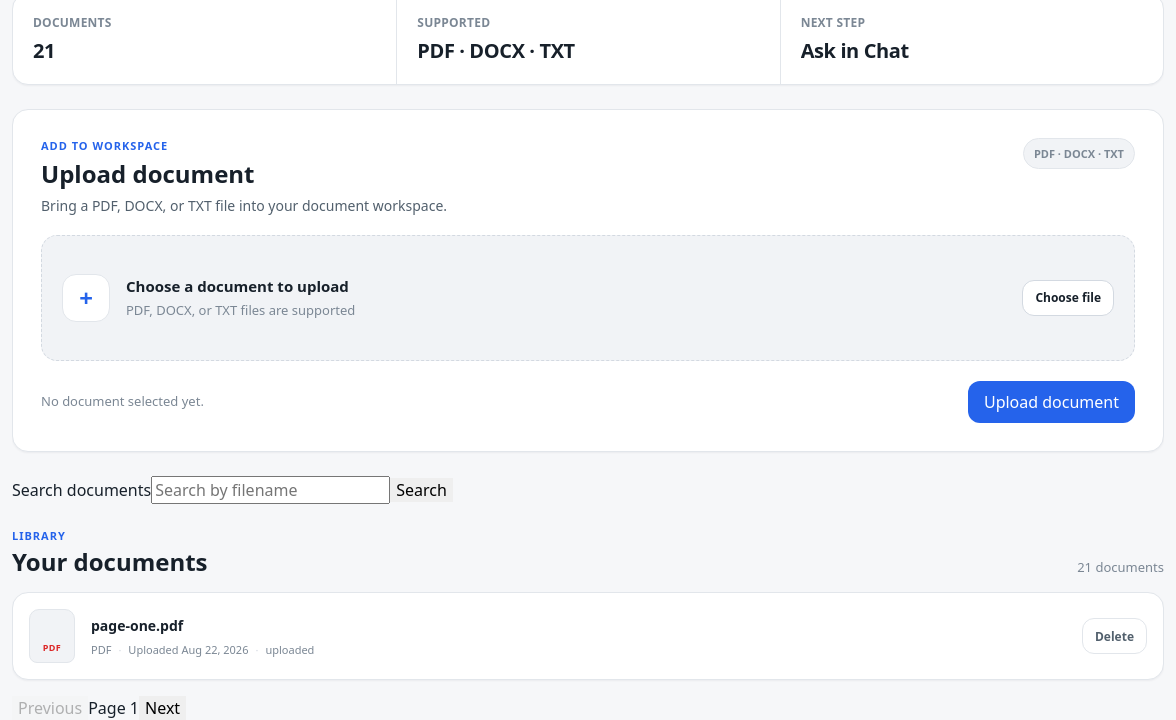
Test: DashboardPage › moves back to page 1 after deleting the only item on page 2
The width and height of the screenshot is (1176, 720).
(page scrolled)
Check: the text "page-one.pdf" is shown, box 91,616 -> 183,635
Click the button with aria-label "Next page".
click(163, 708)  # box 139,696 -> 186,719
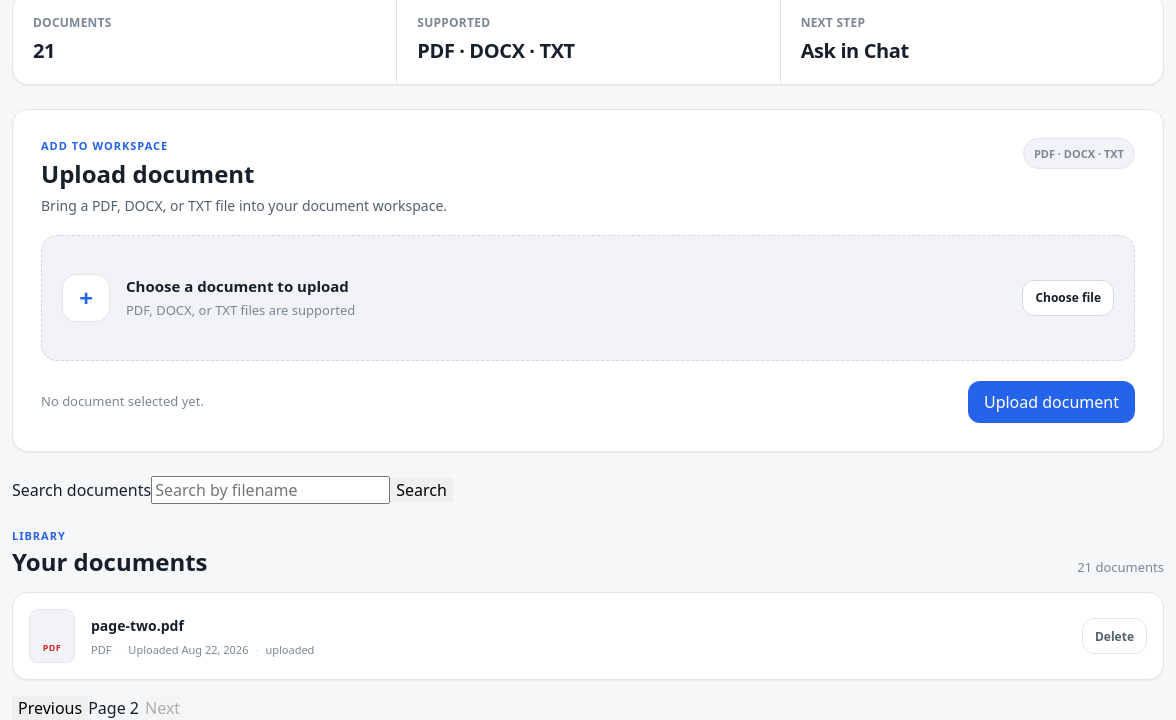
Check: the text "page-two.pdf" is shown, box 91,616 -> 184,635
Click the button "Delete".
click(1114, 636)  # box 1082,618 -> 1147,654
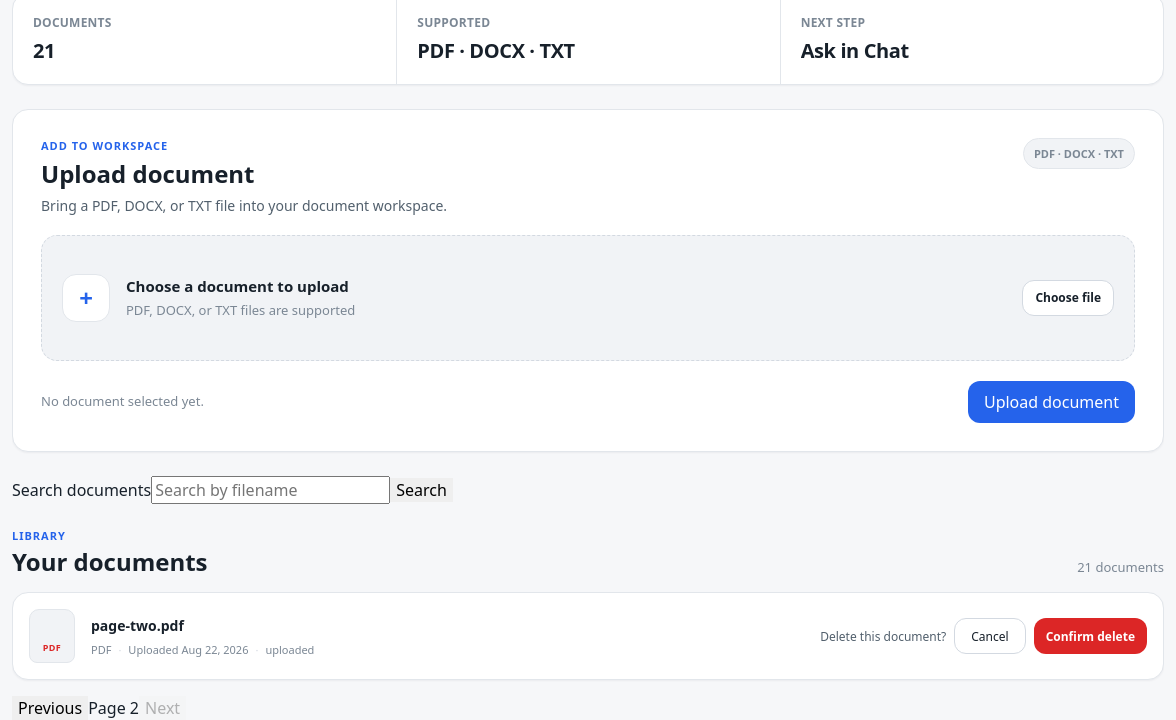
Click the button "Confirm delete".
click(1090, 636)  # box 1034,618 -> 1147,654
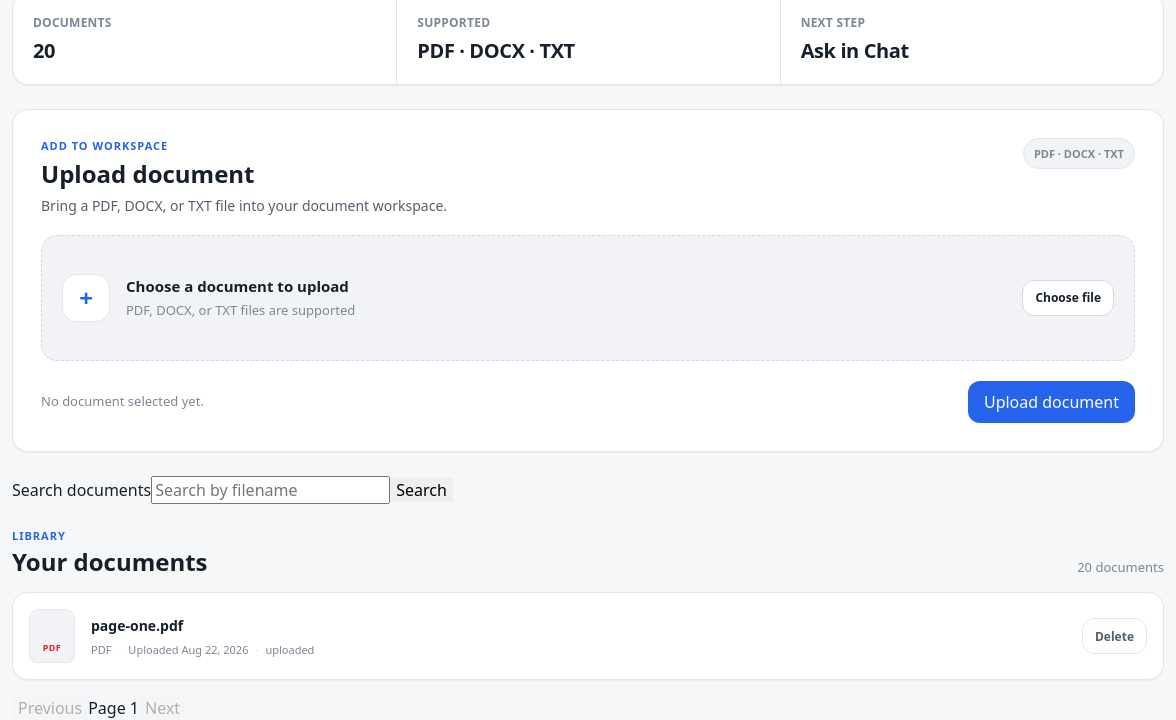
Check: the text "page-one.pdf" is shown, box 91,616 -> 183,635
